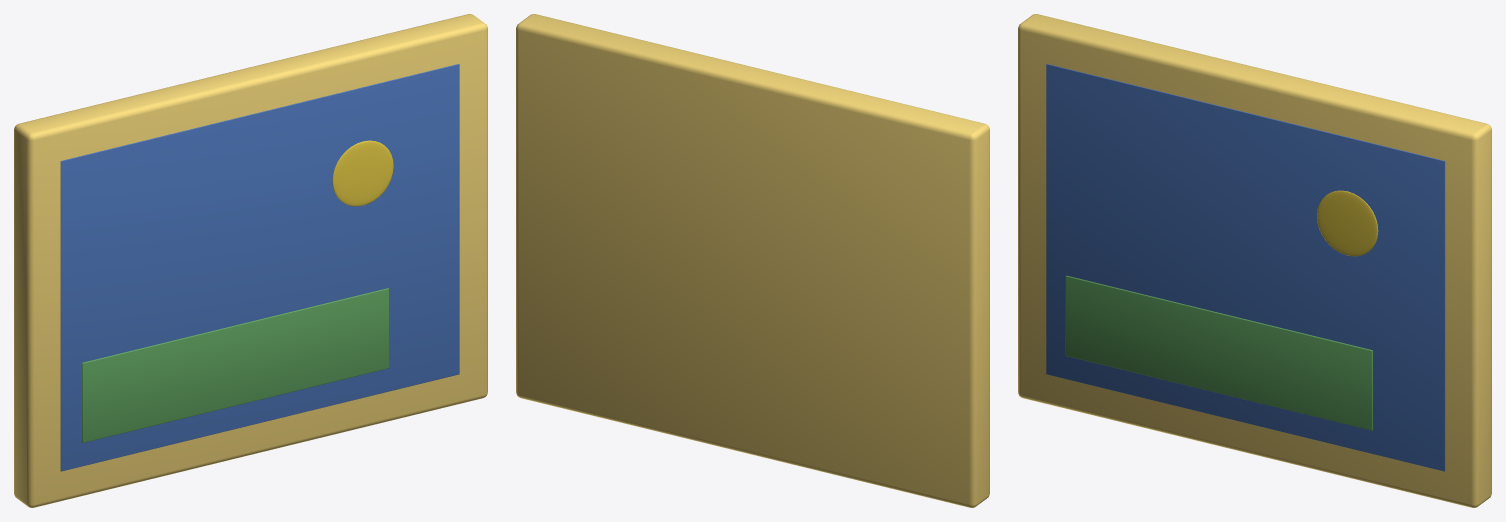
The model's file is frame.glb.
3 renders of one model, left to right at view 1: azimuth 30°, elevation 25°; view 2: azimuth 150°, elevation 25°; view 3: azimuth 330°, elevation 25°, orthographic.
Visible parts, largest first — view 1: canvas, frame, hill, sun; view 2: frame; view 3: canvas, frame, hill, sun.
Boxes of the visible parts, x1,y1,x2,y2 form: canvas: [60, 64, 459, 471]; frame: [14, 14, 487, 507]; hill: [82, 288, 388, 442]; sun: [332, 140, 393, 206]; frame: [516, 14, 989, 507]; canvas: [1046, 64, 1445, 471]; frame: [1018, 14, 1491, 507]; hill: [1065, 275, 1372, 430]; sun: [1317, 190, 1378, 256].
Bounding box in the file's own units: 0.9 × 0.7 × 0.066.
